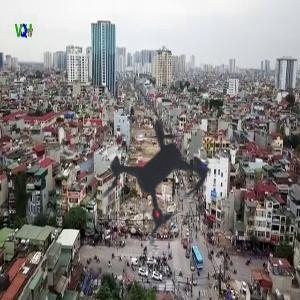drone: (38, 55, 272, 289)
